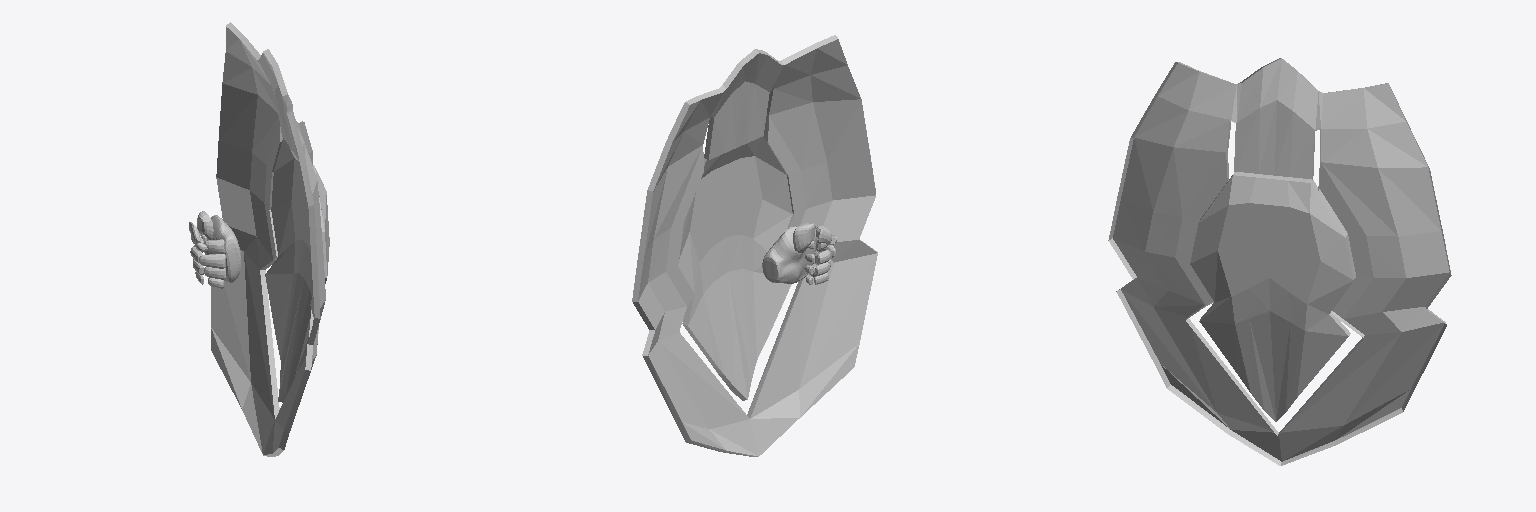
File: shieldWithHand.obj
3 views of the same model, side by side, from view 1: azimuth 30°, elevation 25°; view 2: azimuth 150°, elevation 25°; view 3: azimuth 270°, elevation 25° (orthographic).
Parts seen in each view (by area): view 1: left_hand hands player shield, l_palm left_hand hands player; view 2: left_hand hands player shield, l_palm left_hand hands player; view 3: left_hand hands player shield.
Part boxes in pixels (x1,y1,x2,y2): left_hand hands player shield: (211, 22, 329, 456); l_palm left_hand hands player: (204, 215, 240, 282); left_hand hands player shield: (632, 35, 877, 456); l_palm left_hand hands player: (762, 226, 816, 283); left_hand hands player shield: (1108, 58, 1451, 465).
Size of the model in its own units: 4.25 by 12.96 by 9.86.